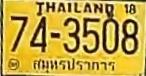0: (102, 17, 118, 53)
3: (62, 17, 79, 52)
4: (29, 16, 46, 51)
5: (82, 17, 99, 53)
7: (10, 15, 27, 51)
8: (121, 18, 137, 54)
SPK: (32, 56, 117, 74)
